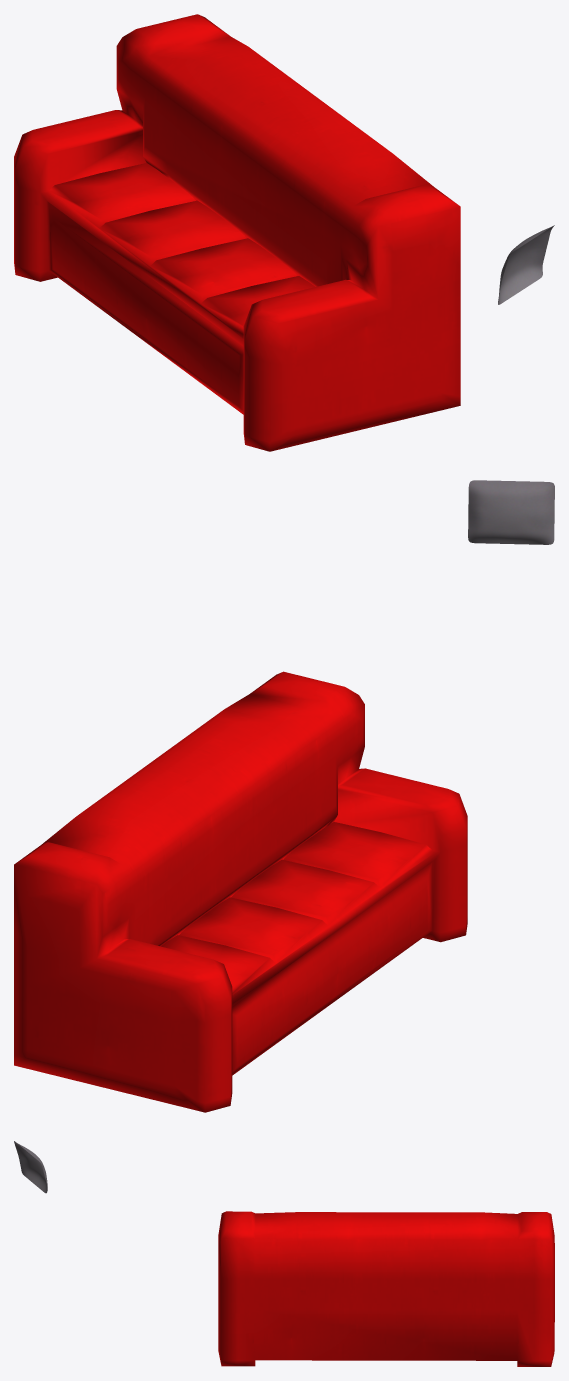
The model's file is sofa.obj.
The picture shows the model from 3 angles, top to bottom: view 1: azimuth 30°, elevation 25°; view 2: azimuth 150°, elevation 25°; view 3: azimuth 270°, elevation 25°; orthographic projection. The views are drawn at different scales.
Visible parts, largest first — view 1: Sofa:Box001, Tela_PC; view 2: Sofa:Box001, Tela_PC; view 3: Sofa:Box001, Tela_PC.
Part boxes in pixels (x1,y1,x2,y2): Sofa:Box001: [14, 14, 460, 451]; Tela_PC: [498, 225, 554, 304]; Sofa:Box001: [14, 671, 467, 1112]; Tela_PC: [468, 480, 554, 544]; Sofa:Box001: [218, 1211, 554, 1366]; Tela_PC: [14, 1141, 47, 1193].
Size of the model in its own units: 264 by 370 by 950.
2 materials, 2 textured.
